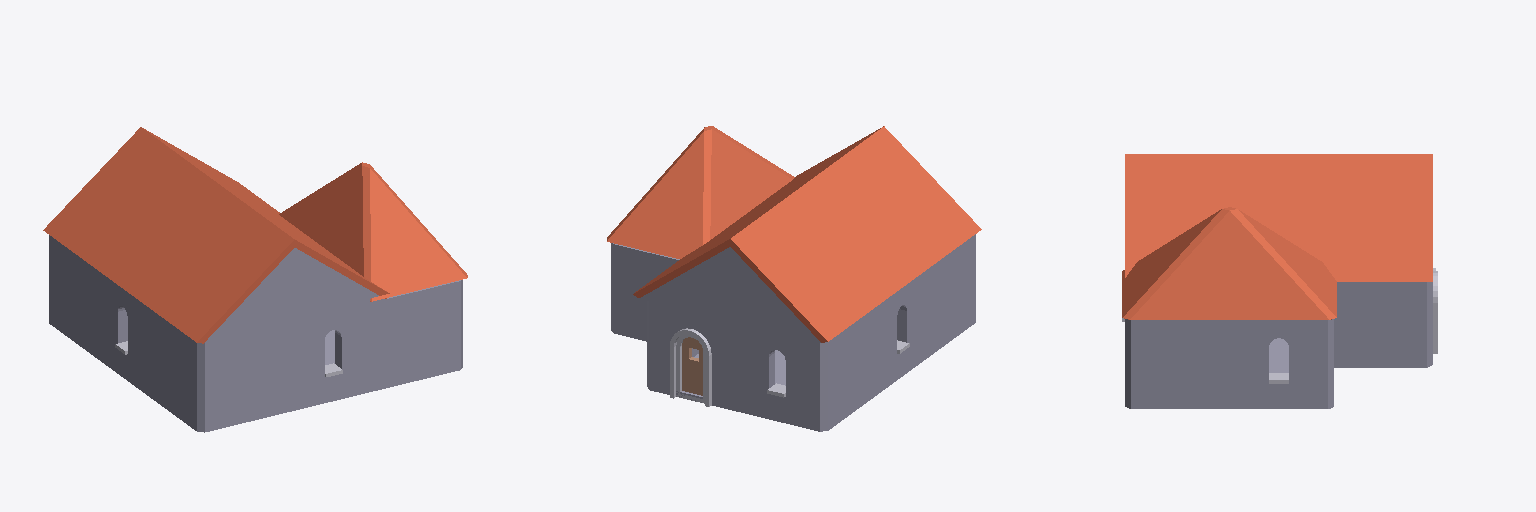
The model's file is House2.obj.
3 views of the same model, side by side, from view 1: azimuth 30°, elevation 25°; view 2: azimuth 150°, elevation 25°; view 3: azimuth 270°, elevation 25° (orthographic).
Size of the model in its own units: 3.2 by 1.99 by 3.21.